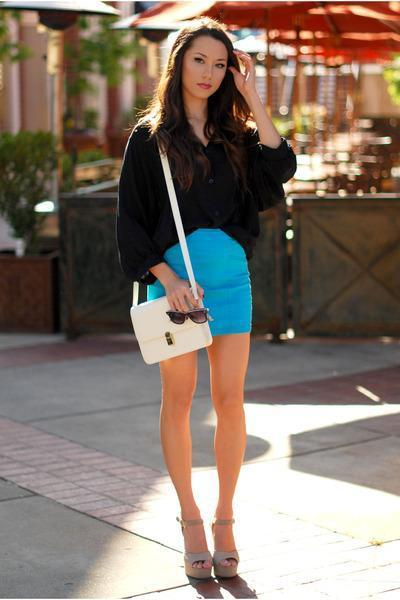bag: (132, 156, 211, 363)
shirt: (118, 132, 296, 288)
shoe: (180, 511, 243, 598)
skirt: (133, 229, 251, 335)
